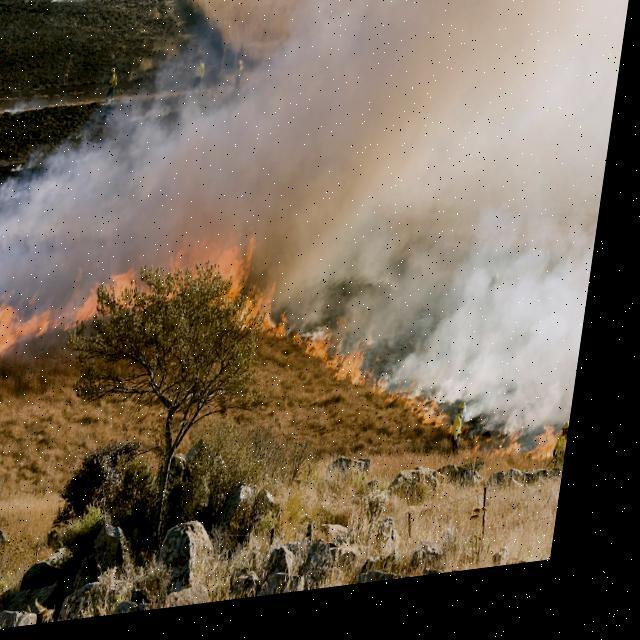Fire: (0, 220, 262, 378), (242, 281, 388, 411), (387, 380, 465, 446), (514, 437, 568, 478)
